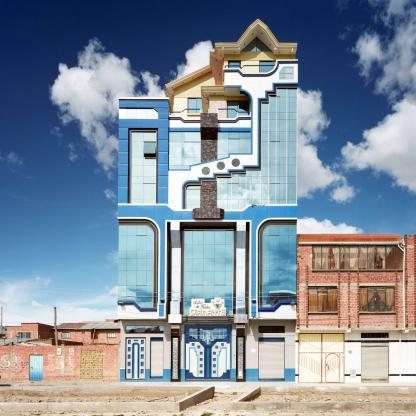Balcony: (223, 59, 298, 85), (169, 108, 251, 128)
Building Outline: (117, 18, 299, 382)
Door: (186, 327, 230, 381), (259, 338, 284, 381), (126, 338, 145, 379), (228, 102, 248, 128), (151, 338, 163, 379), (260, 63, 285, 82)
Facade: (118, 18, 298, 382)
Glass Wall: (217, 89, 297, 209), (185, 231, 233, 316), (118, 226, 154, 308), (262, 226, 297, 307)
Pillar: (170, 222, 181, 314), (236, 222, 246, 314), (236, 323, 246, 382), (171, 323, 180, 382)
Roof: (165, 18, 298, 93)
Shop: (189, 297, 226, 316)
Window: (131, 132, 156, 204), (169, 132, 201, 169), (217, 132, 251, 159), (241, 37, 272, 52), (186, 186, 201, 209), (126, 326, 164, 333), (188, 99, 203, 114), (259, 327, 285, 334), (279, 67, 293, 79), (230, 63, 240, 76)
